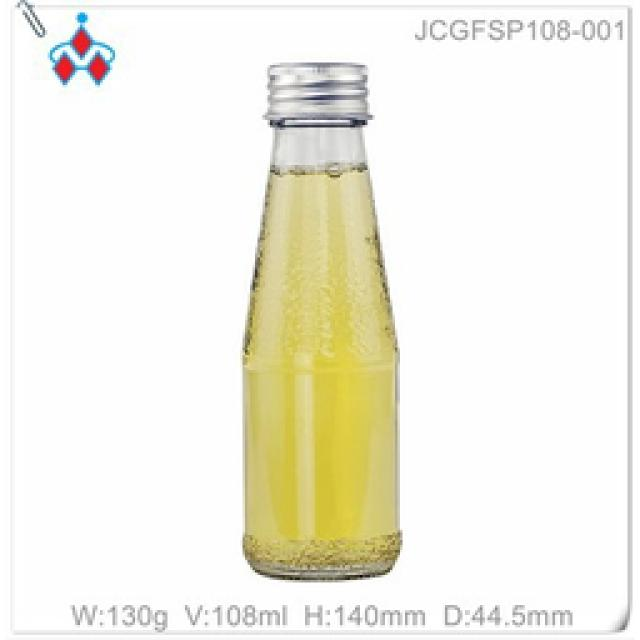glass_beverage_bottles: (236, 57, 406, 585)
